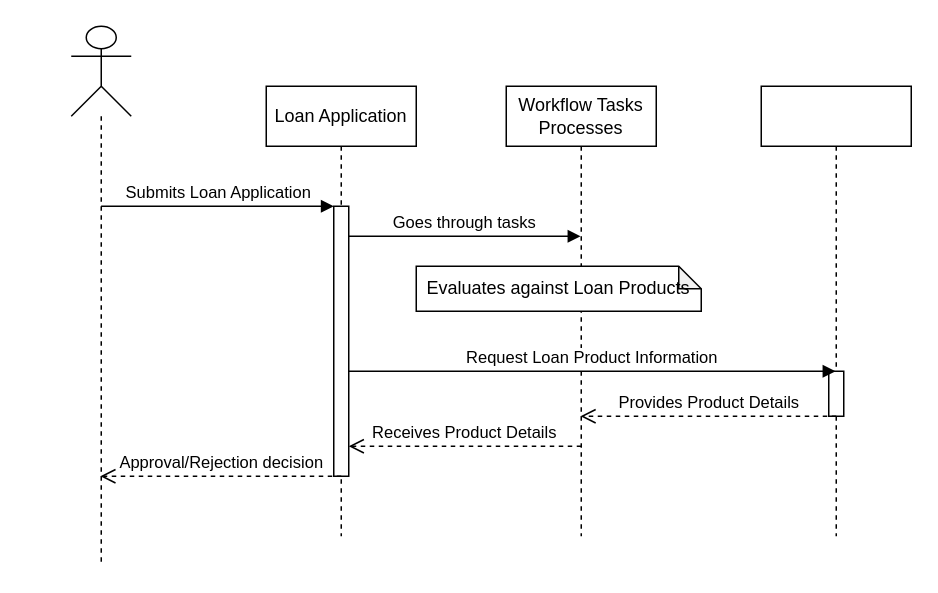
Some shapes in this 938 by 593 pixel diagram are drawn without their labels. The box of each missing label's shape, as (x1, y1, x2, y2) in pixels:
Applicant/User: (70, 25, 131, 566)
Loan Product: (760, 85, 911, 536)
